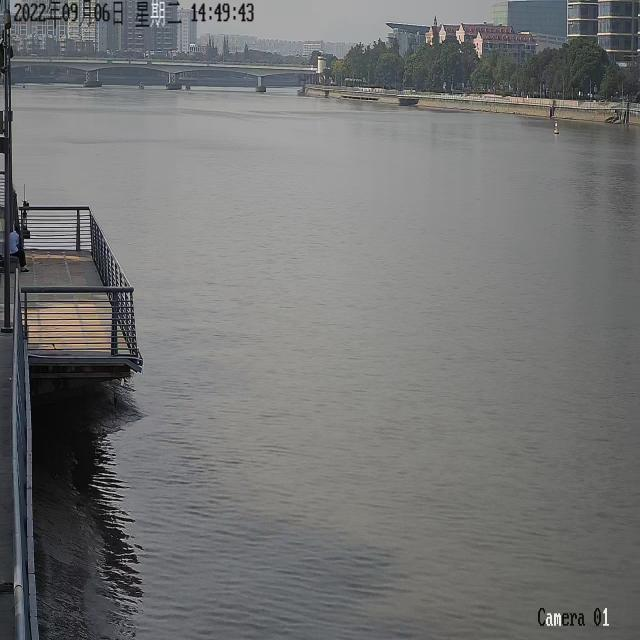ship: (138, 80, 144, 89), (185, 84, 190, 90)
